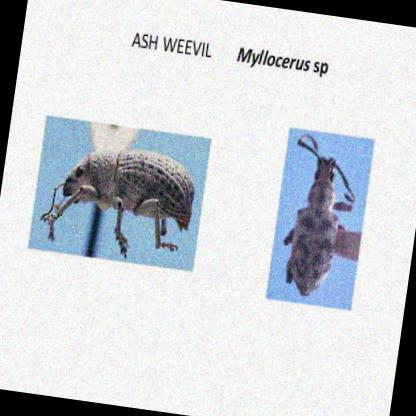ash weevil: (44, 149, 195, 255), (290, 154, 340, 297)
